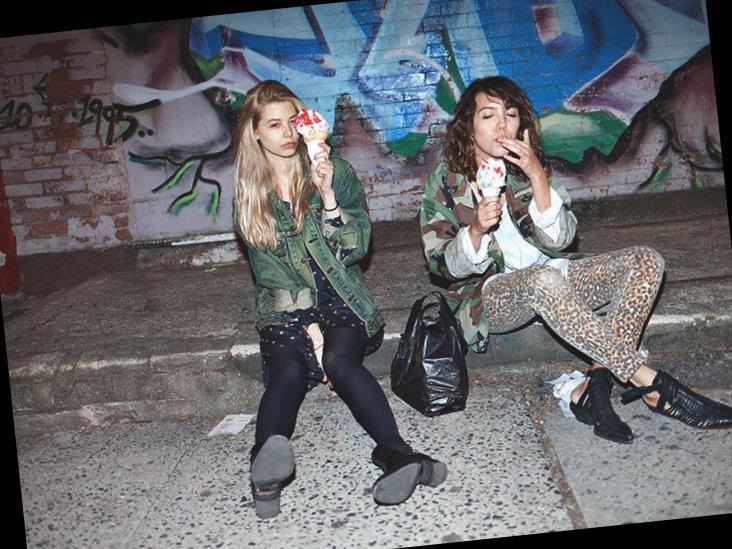Drunk: (254, 104, 303, 149), (483, 98, 520, 156)
